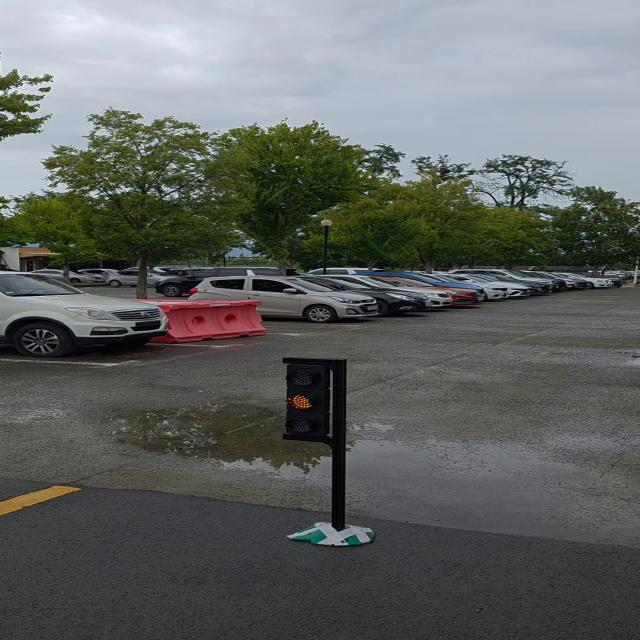yellow: (286, 360, 333, 440)
